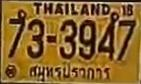3: (26, 18, 44, 58), (59, 19, 76, 58)
4: (97, 19, 116, 59)
7: (117, 19, 135, 60), (8, 18, 26, 57)
9: (78, 19, 95, 59)
SPK: (27, 61, 113, 82)
